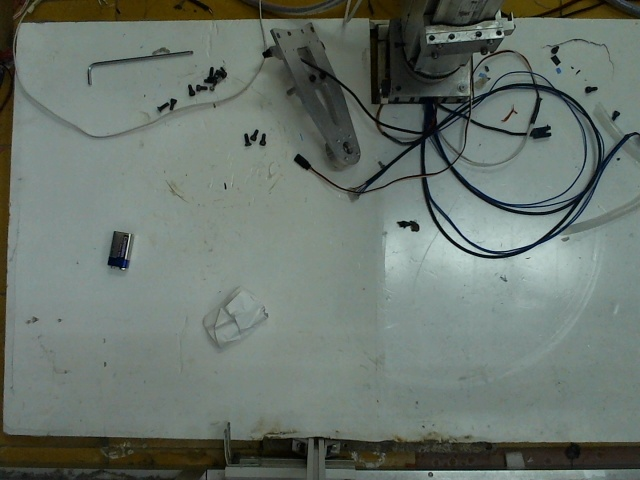battery: (103, 227, 136, 272)
